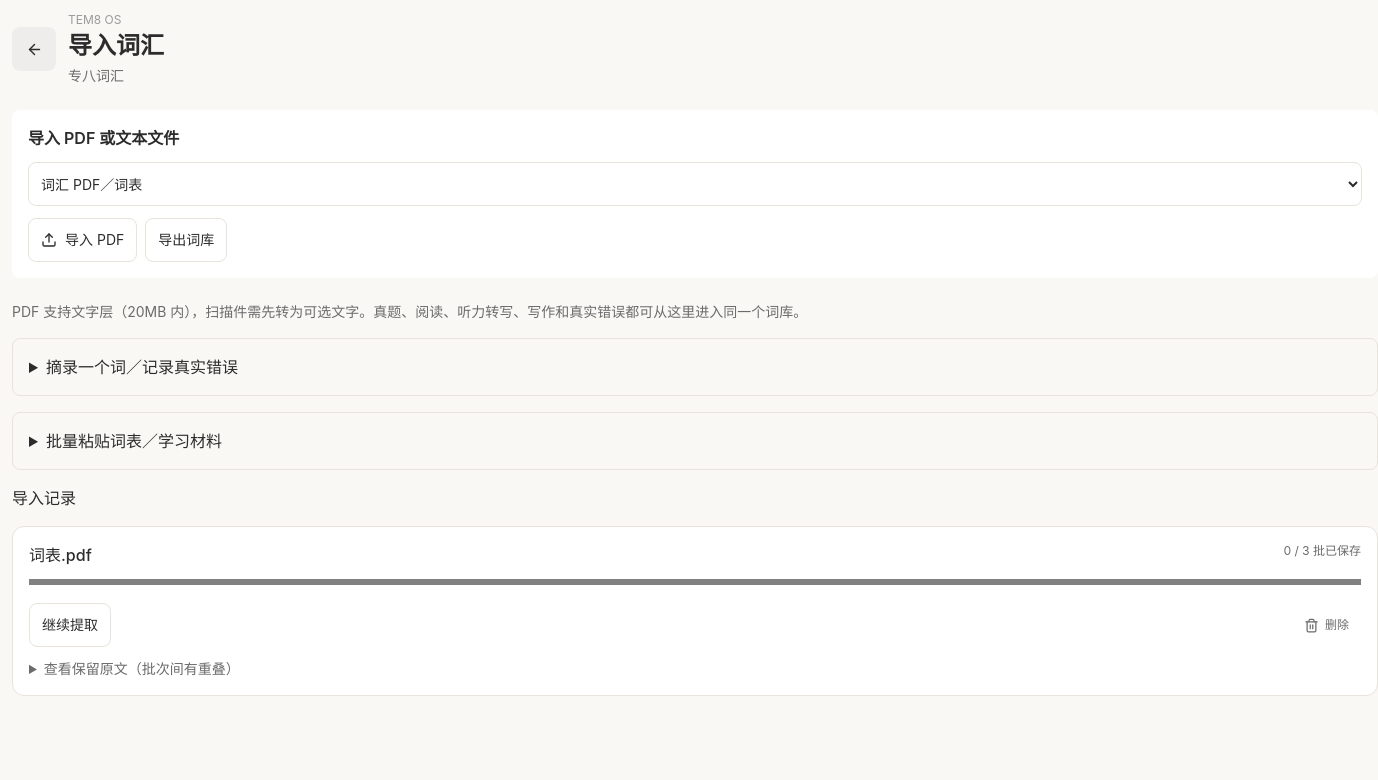
TEM8 full vocabulary page › keeps an explicit saved count on a later chunk failure
Click the button "继续提取": {"x": 70, "y": 625} [29,603,111,647]
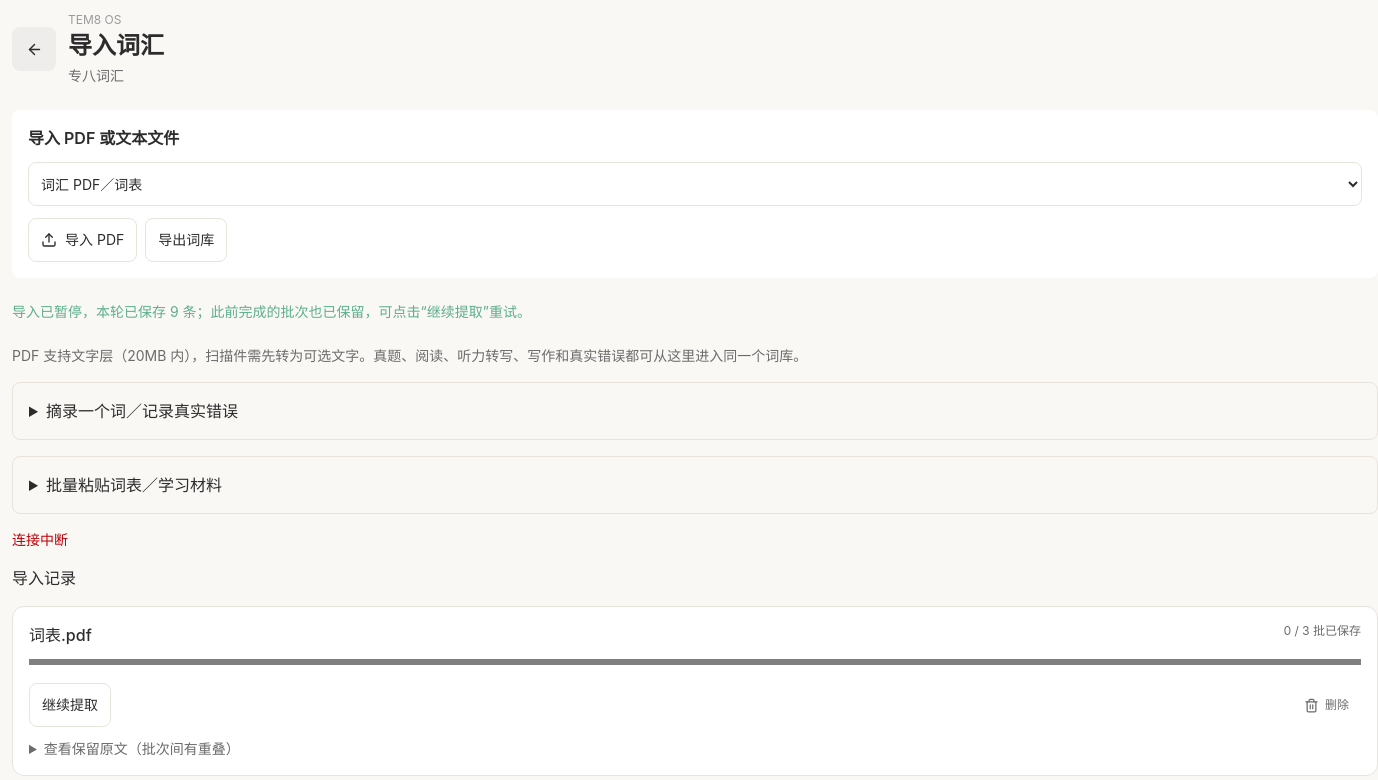
Expected: the message "导入已暂停，本轮已保存 9 条；此前完成的批次也已保留，可点击“继续提取”重试。" is shown, [12,303,531,320]
Expected: the message "连接中断" is shown, [12,531,68,548]
